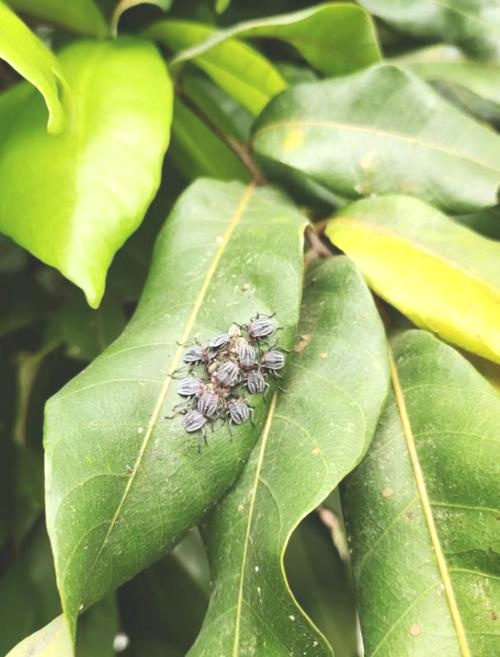Stink_Bug: (184, 306, 276, 444)
